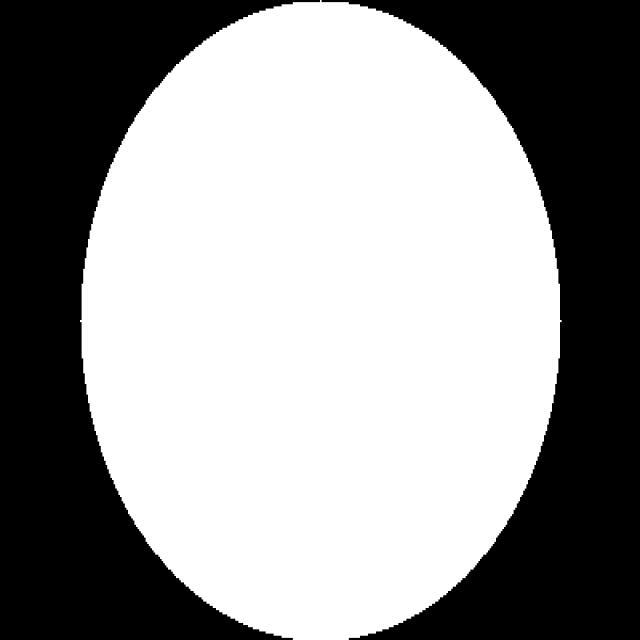Circle: (76, 0, 564, 640)
